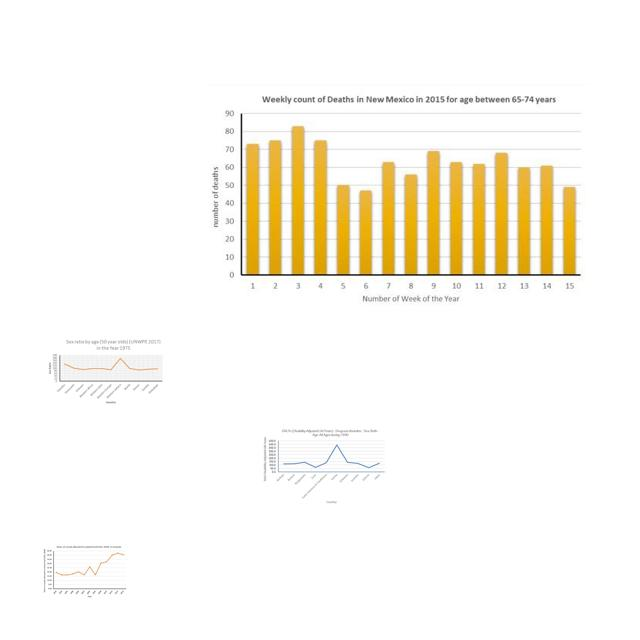Graph: (204, 84, 589, 314), (261, 428, 387, 505), (45, 337, 165, 407), (42, 544, 128, 599)
